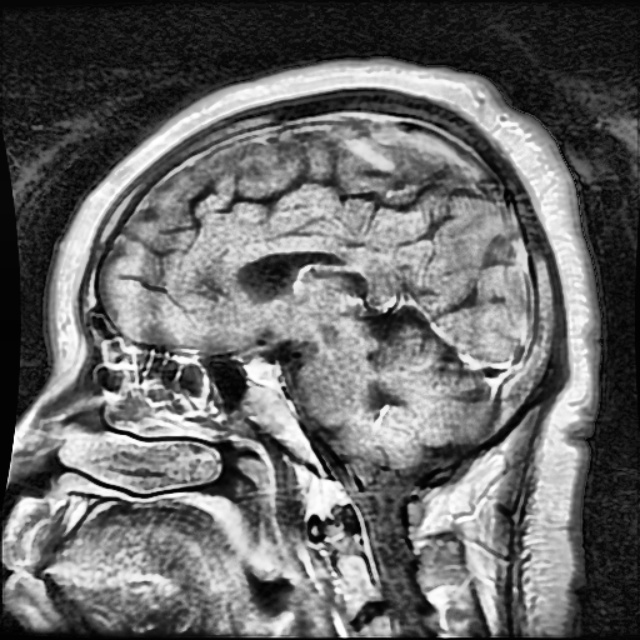Pituitary: (245, 358, 280, 388)
